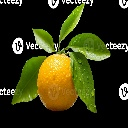orange: (35, 40, 96, 110)
